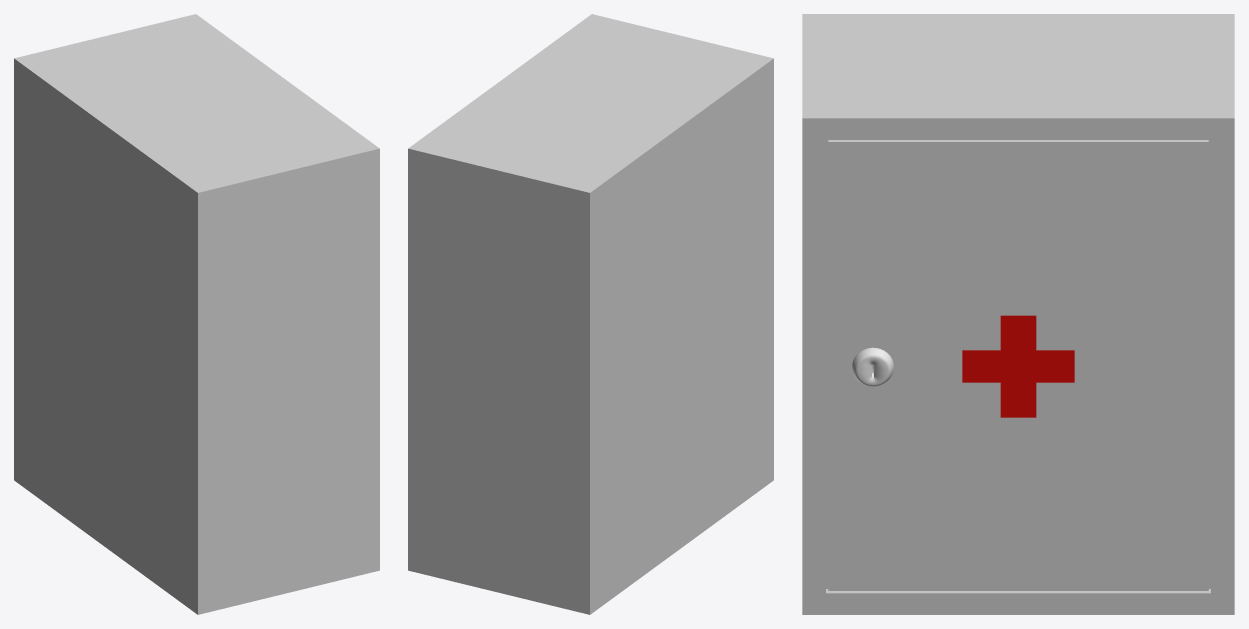
The model's file is uploads_files_2655954_MedKit.fbx.
3 renders of one model, left to right at view 1: azimuth 30°, elevation 25°; view 2: azimuth 150°, elevation 25°; view 3: azimuth 270°, elevation 25°, orthographic. The views are drawn at different scales.
Parts seen in each view (by area): view 1: Cube; view 2: Cube; view 3: Cube.
Part boxes in pixels (x1,y1,x2,y2): Cube: (14, 14, 379, 614); Cube: (408, 14, 773, 614); Cube: (802, 14, 1234, 614).
Size of the model in its own units: 119 by 253 by 200.
